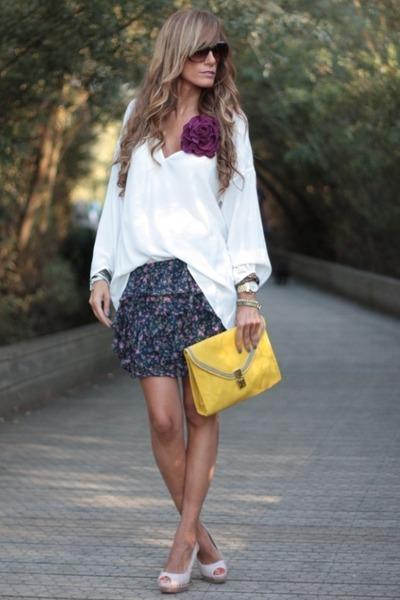bag: (185, 329, 280, 415)
shirt: (91, 107, 271, 330)
shoe: (158, 554, 228, 587)
skirt: (108, 258, 226, 383)
sunglass: (192, 43, 227, 70)
